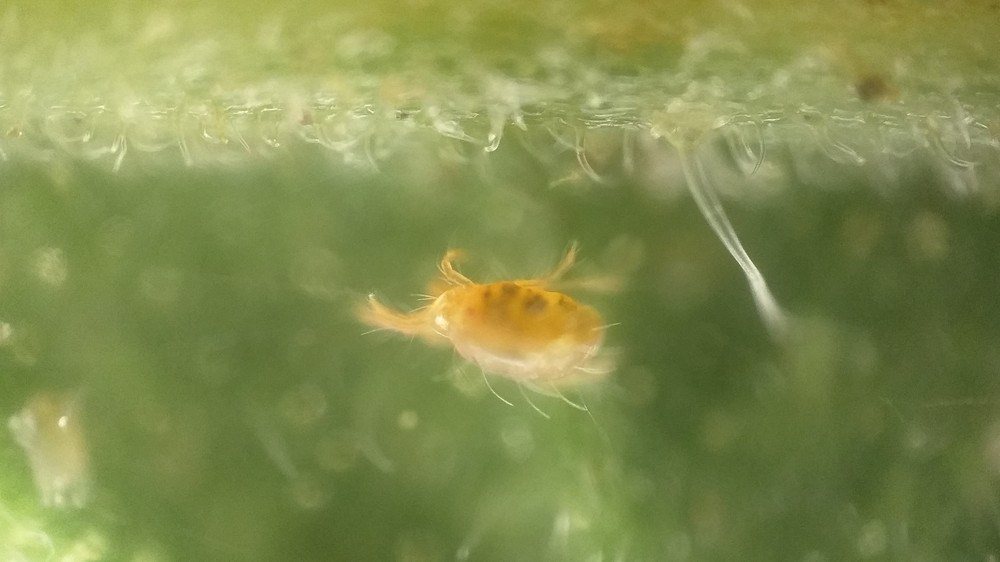Aracnido Rojo: (350, 211, 681, 440)
